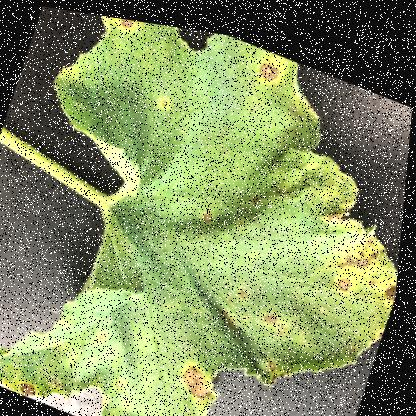AlternariaBrassicicola: (181, 354, 224, 395), (261, 295, 301, 334), (255, 48, 286, 80), (99, 319, 124, 346), (22, 375, 50, 399), (114, 366, 138, 393), (337, 261, 361, 284), (383, 262, 400, 294), (156, 86, 177, 110), (201, 201, 221, 221), (116, 14, 139, 30)
